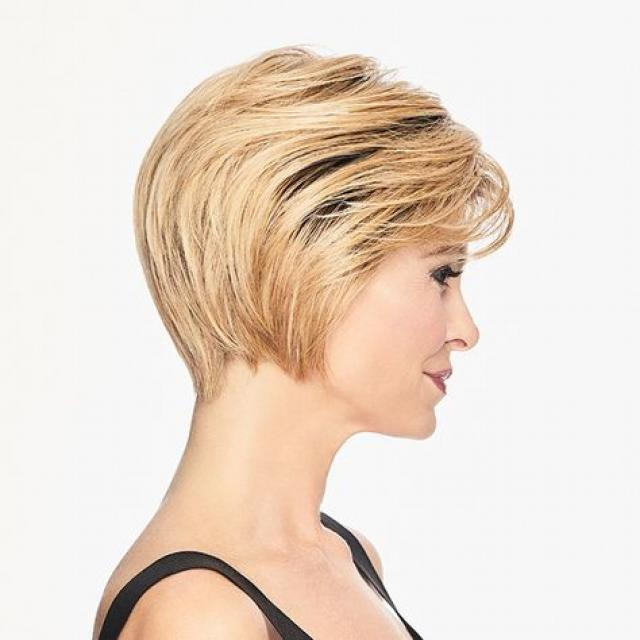Healthy: (130, 373, 422, 576)
